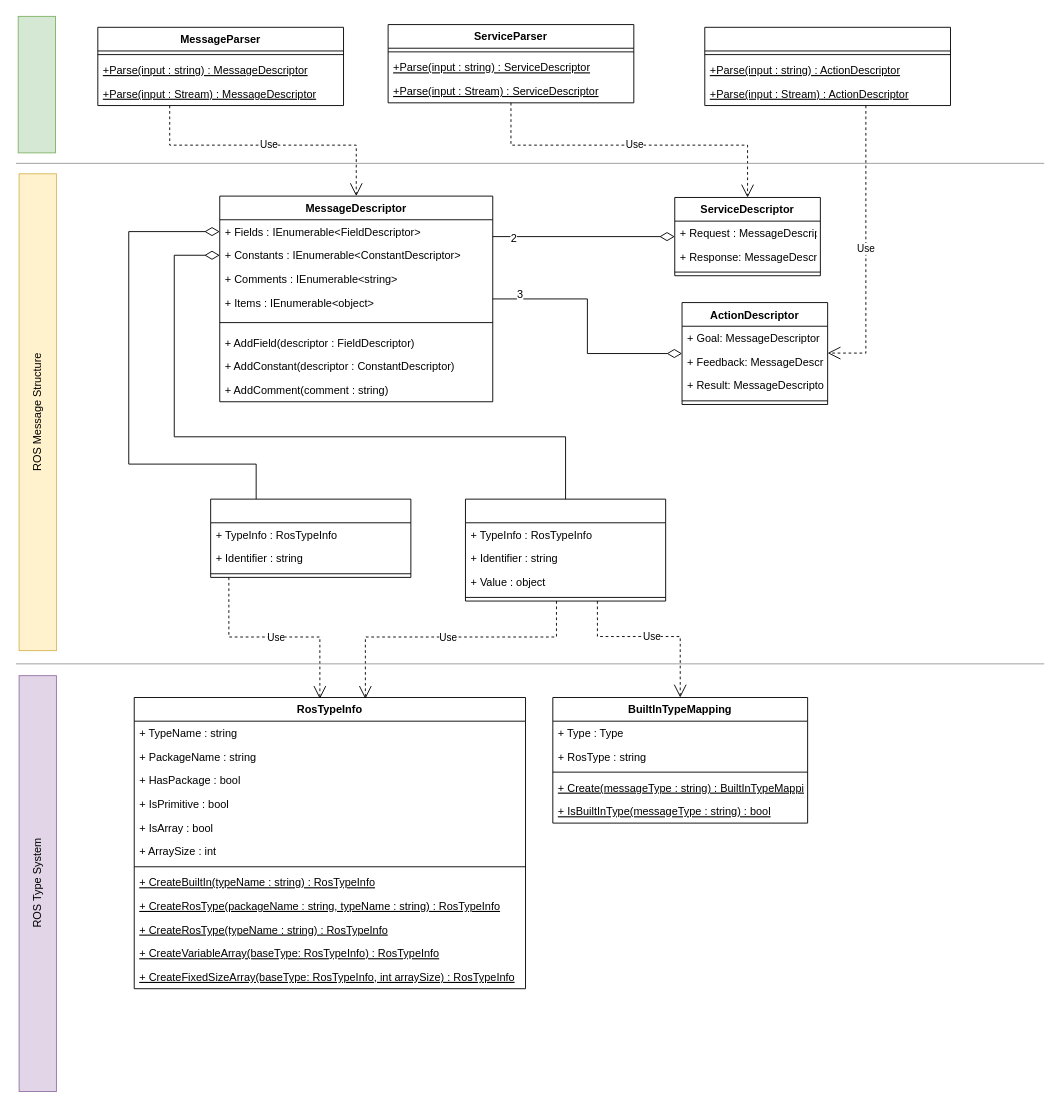
This 1061x1107 diagram has some shape labels left out. Each missing label, with the box of its shape:
ActionParser: (704, 26, 950, 106)
ConstantDescriptor: (465, 498, 666, 601)
FieldDescriptor: (210, 498, 411, 577)
Parsers: (17, 15, 56, 153)
